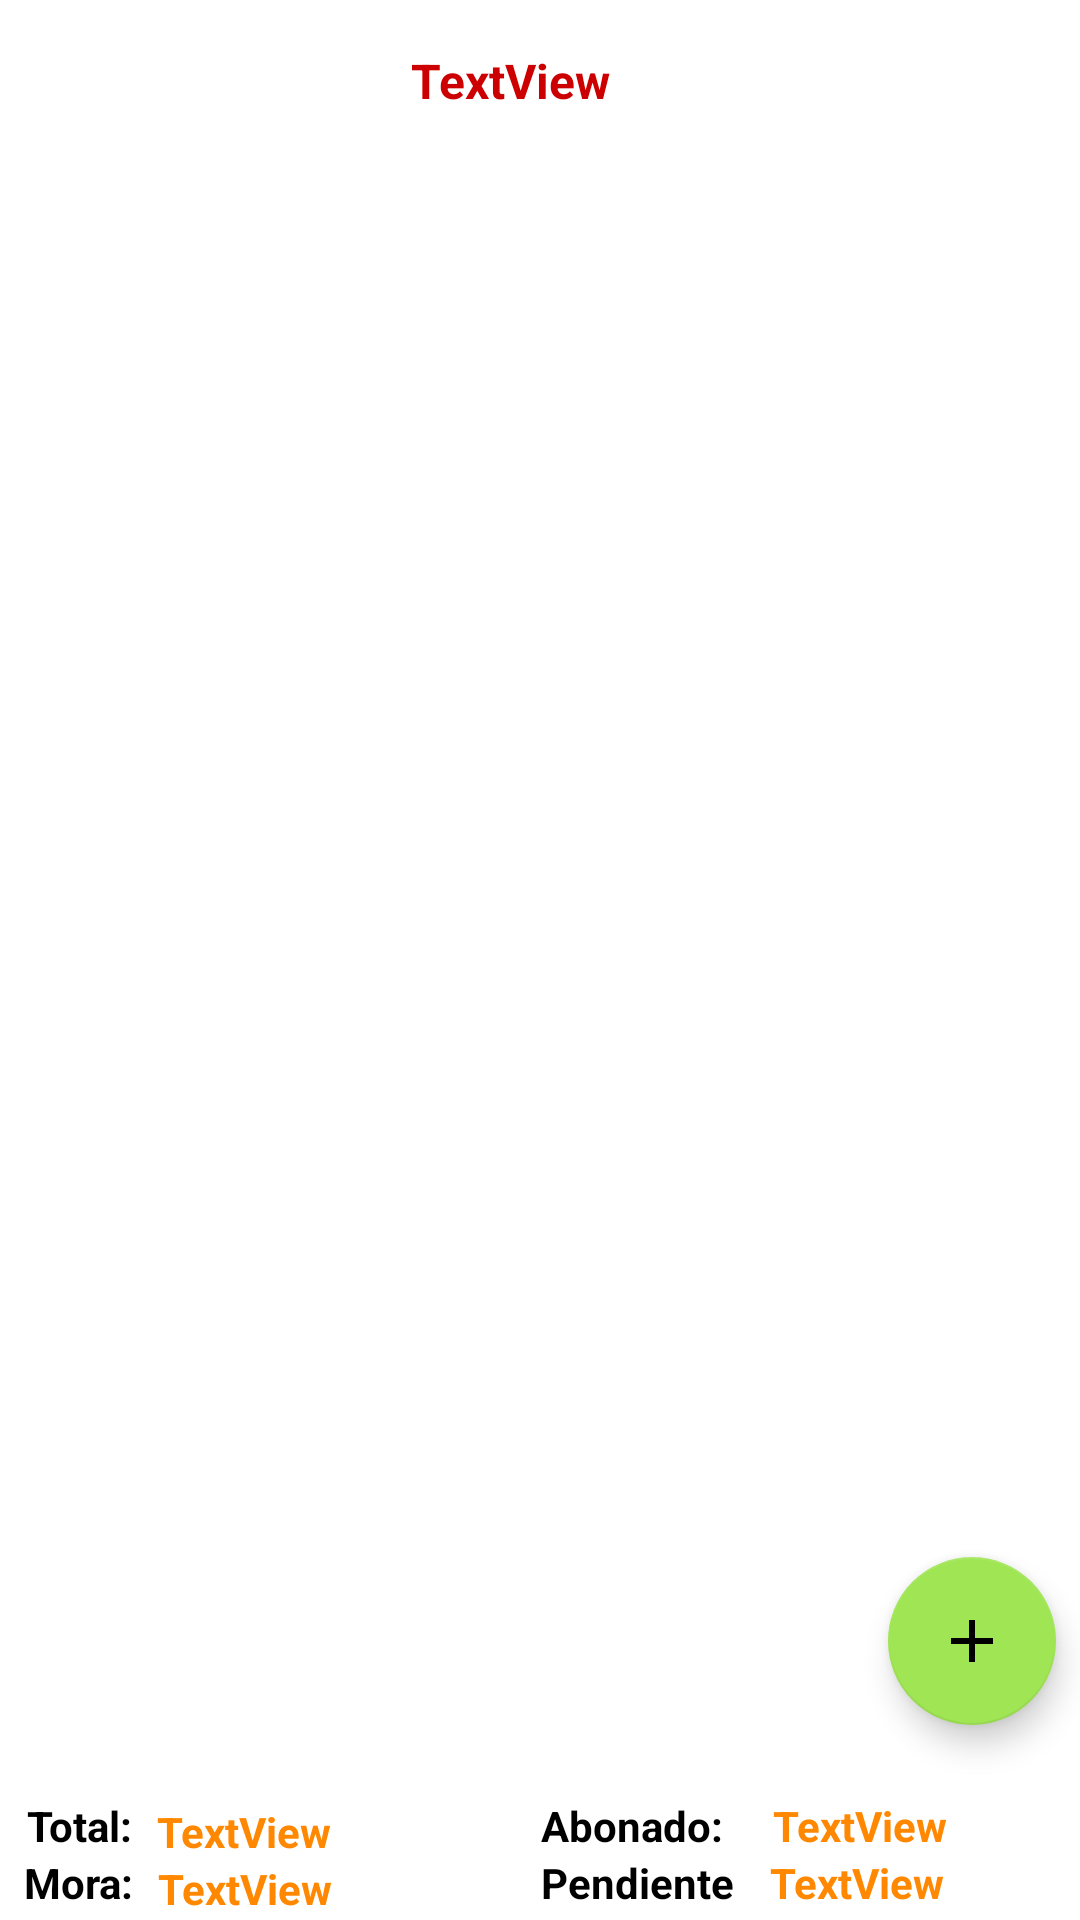

Point at icon controls on the screen. Image size 1080 × 1920, points as point (x, y).
mas: point (972, 1641)
